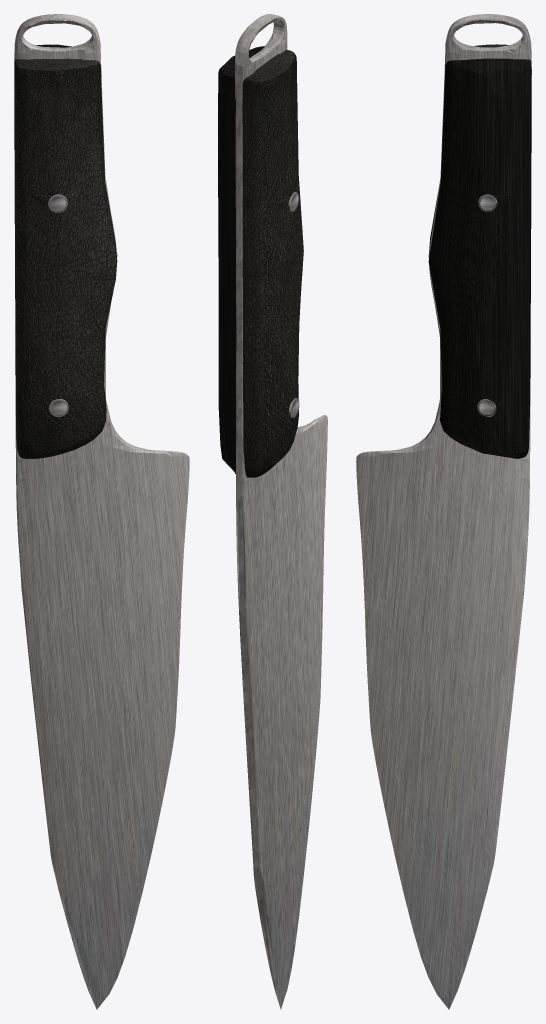
3 renders of one model, left to right at view 1: azimuth 90°, elevation 25°; view 2: azimuth 150°, elevation 25°; view 3: azimuth 270°, elevation 25°, orthographic.
Parts seen in each view (by area): view 1: Object_FILE4.jpg, Object_LEATH_80.jpg; view 2: Object_FILE4.jpg, Object_LEATH_80.jpg; view 3: Object_FILE4.jpg, Object_LEATH_80.jpg.
Boxes of the visible parts, bbox=[...] form: Object_FILE4.jpg: bbox=[14, 14, 189, 1009]; Object_LEATH_80.jpg: bbox=[14, 44, 117, 458]; Object_FILE4.jpg: bbox=[234, 14, 327, 1009]; Object_LEATH_80.jpg: bbox=[218, 46, 303, 477]; Object_FILE4.jpg: bbox=[356, 14, 531, 1009]; Object_LEATH_80.jpg: bbox=[428, 44, 531, 458].
Size of the model in its own units: 0.1749 by 2.5 by 0.4005.
Materials: 2 (2 with a texture image).
